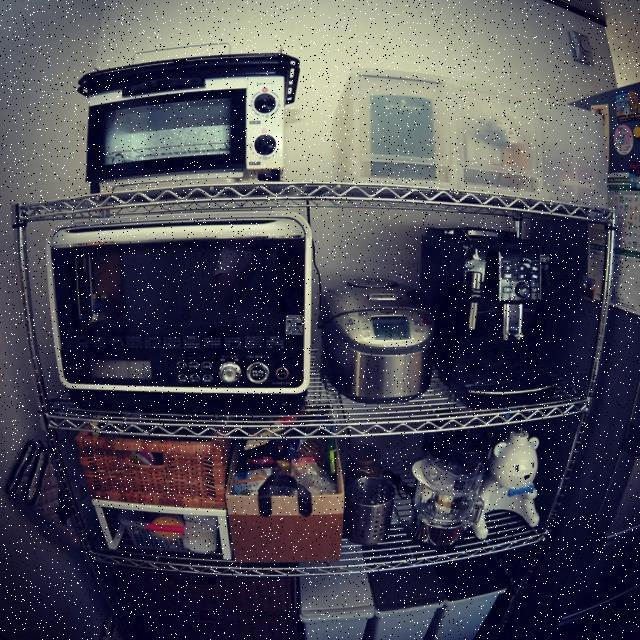Coffee-Machine: (406, 220, 600, 416)
